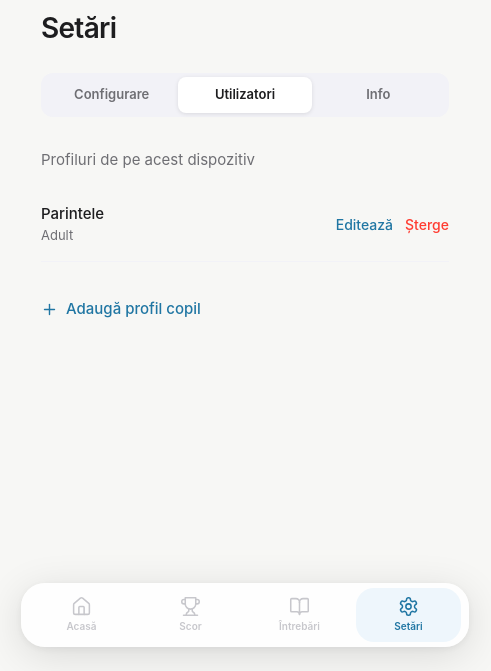
it: R4: Setări > Adaugă profil copil -- slow request, double-click, error preserves values › a failed add-child request shows an error and keeps the typed name in the form
The width and height of the screenshot is (491, 671).
Click the button "Adaugă profil copil".
click(121, 309)  # box top-left (41, 282), bottom-right (201, 336)
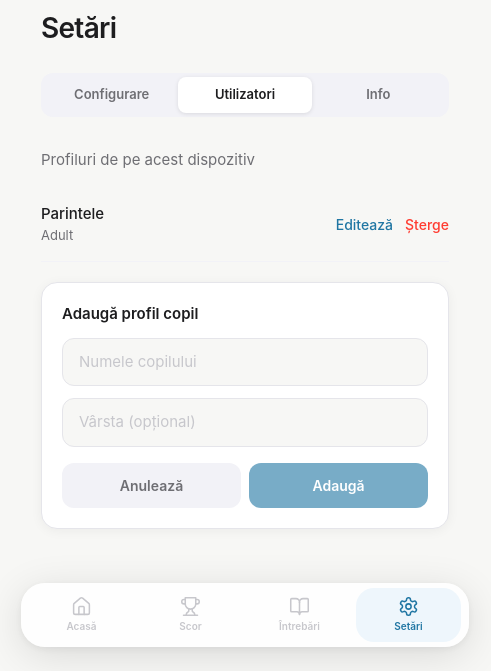
Type "Ana" into the field with placeholder "Numele copilului".
click(245, 362); type("Ana")  # box top-left (62, 338), bottom-right (428, 386)
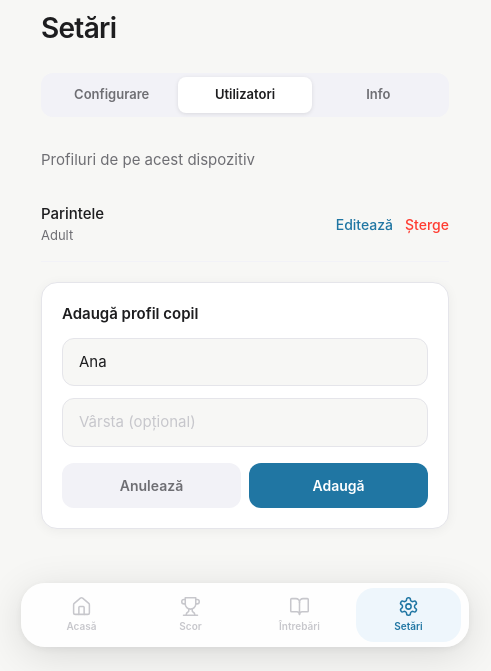
Click the button "Adaugă".
click(338, 485)  # box top-left (249, 462), bottom-right (428, 508)
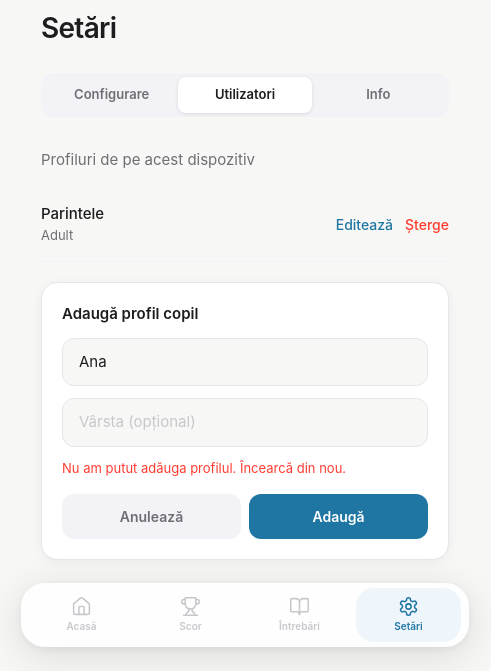
Now the text "Nu am putut adăuga profilul. Încearcă din nou." is shown, box top-left (62, 460), bottom-right (346, 476)
